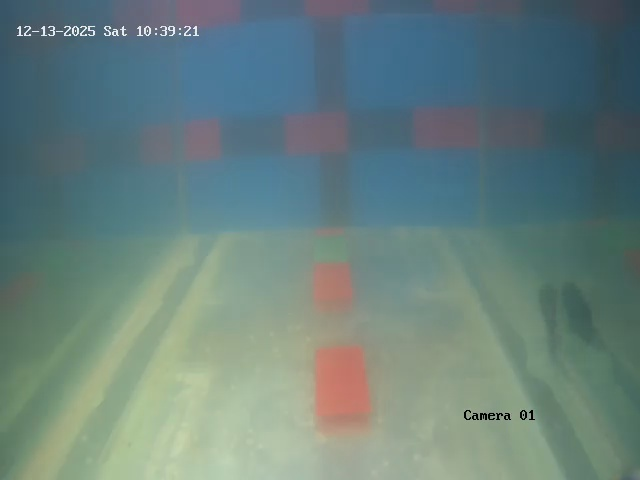fish: (531, 270, 564, 360)
